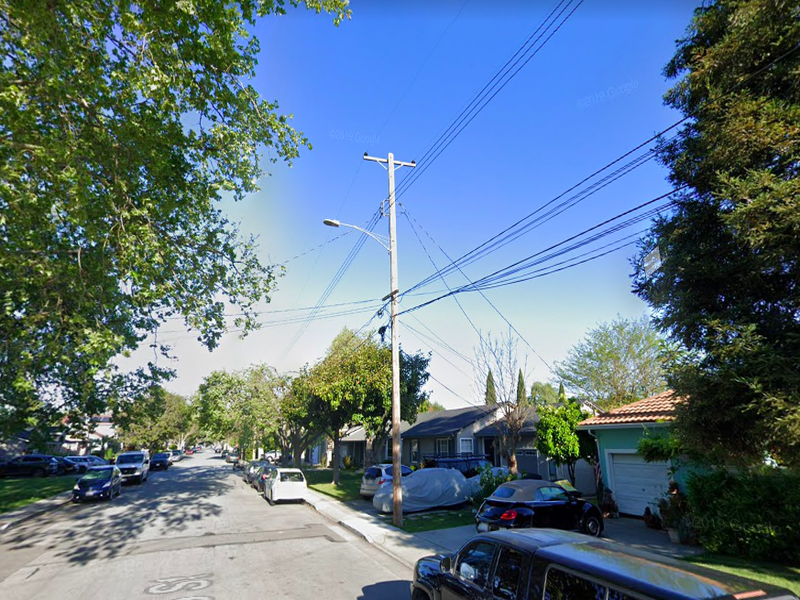utility_pole: (358, 144, 423, 225)
